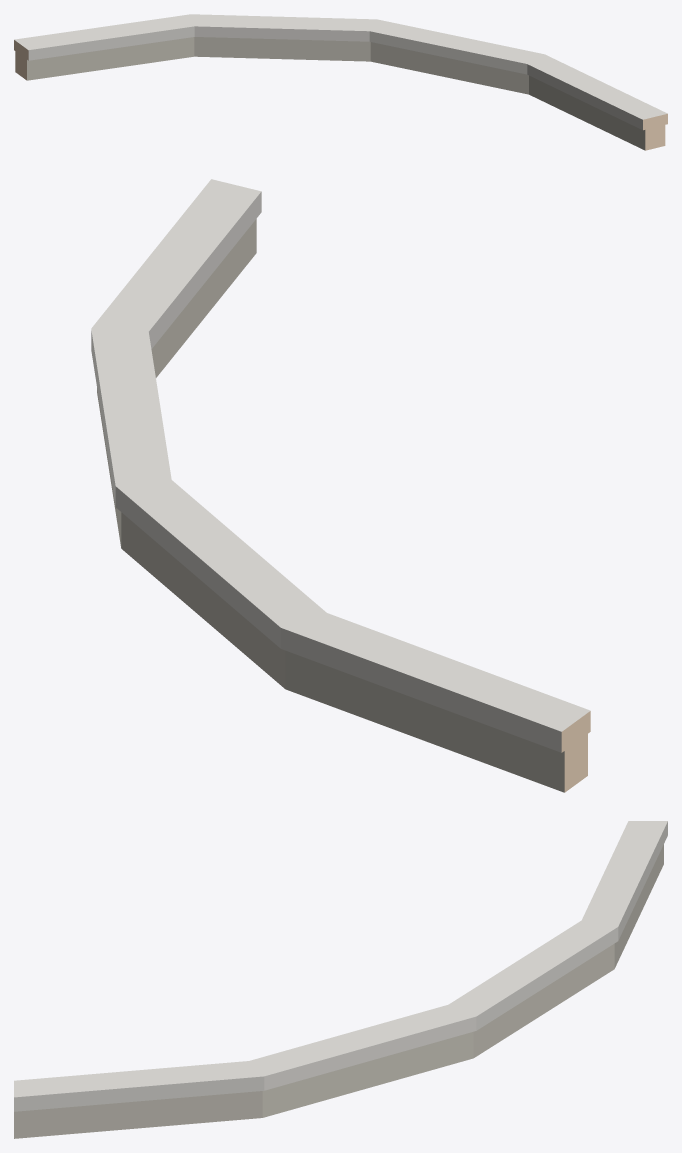
Rendered from Tiered_Retaining_Wall_Flat_Curve_5x5_Top.glb.
The picture shows the model from 3 angles, top to bottom: view 1: azimuth 30°, elevation 25°; view 2: azimuth 150°, elevation 25°; view 3: azimuth 270°, elevation 25°; orthographic projection. The views are drawn at different scales.
Parts seen in each view (by area): view 1: Tiered_Retaining_Wall_Flat_Curve_5x5_Top; view 2: Tiered_Retaining_Wall_Flat_Curve_5x5_Top; view 3: Tiered_Retaining_Wall_Flat_Curve_5x5_Top.
Boxes of the visible parts, x1,y1,x2,y2 form: Tiered_Retaining_Wall_Flat_Curve_5x5_Top: (14, 14, 667, 150); Tiered_Retaining_Wall_Flat_Curve_5x5_Top: (91, 179, 590, 792); Tiered_Retaining_Wall_Flat_Curve_5x5_Top: (14, 821, 667, 1138).
Bounding box in the file's own units: 516 × 37.5 × 516.
